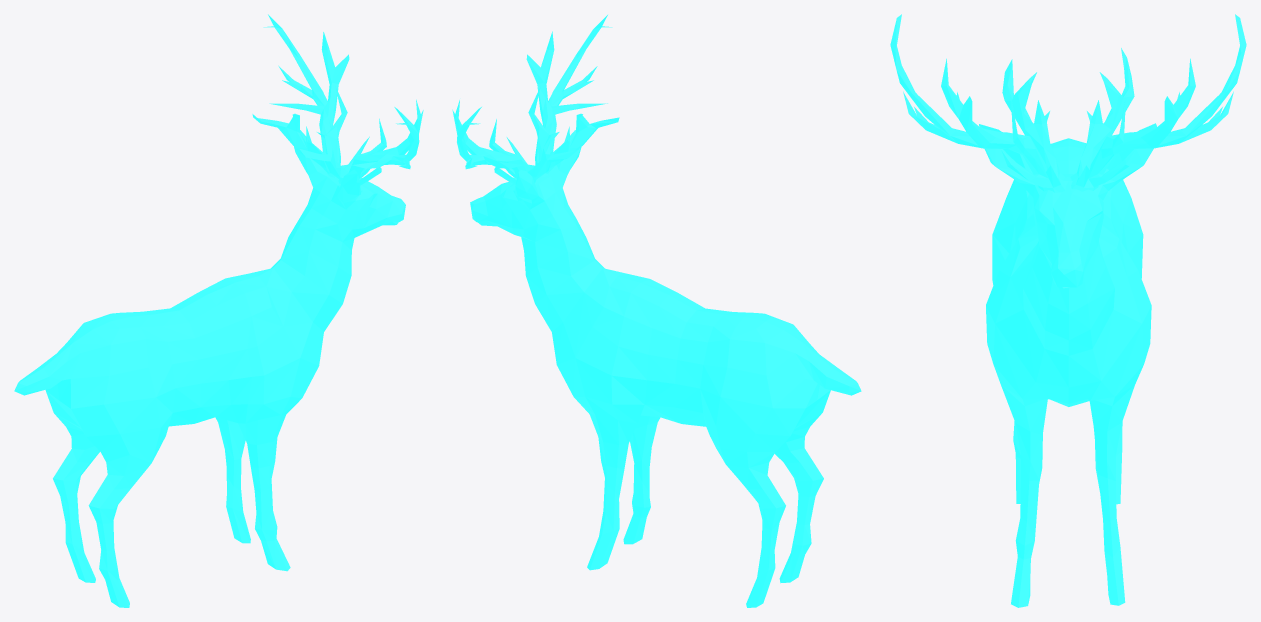
File: Prongs.glb
3 views of the same model, side by side, from view 1: azimuth 30°, elevation 25°; view 2: azimuth 150°, elevation 25°; view 3: azimuth 270°, elevation 25° (orthographic). The views are drawn at different scales.
Visible parts, largest first — view 1: Prongs; view 2: Prongs; view 3: Prongs.
Part boxes in pixels (x1,y1,x2,y2): Prongs: (14,14,423,607); Prongs: (452,15,861,607); Prongs: (890,14,1246,607).
Bounding box in the file's own units: 1.23 × 1.45 × 0.738.
